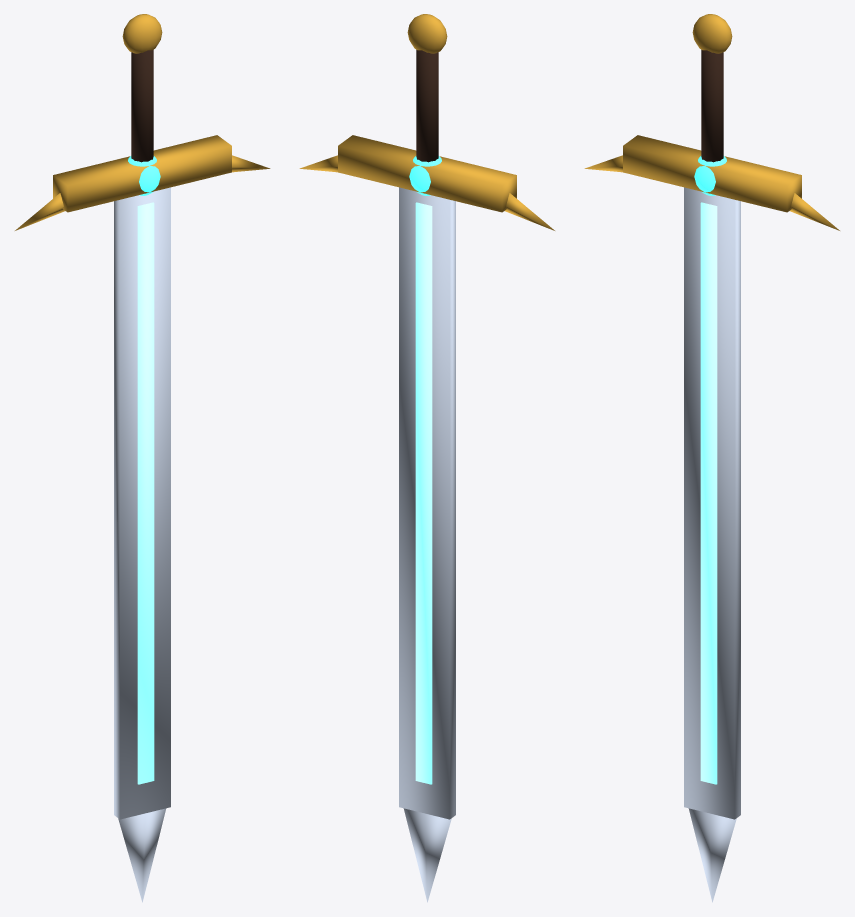
The model's file is weapon_guerreiro_ia.glb.
The picture shows the model from 3 angles, left to right: view 1: azimuth 30°, elevation 25°; view 2: azimuth 150°, elevation 25°; view 3: azimuth 330°, elevation 25°; orthographic projection.
Parts seen in each view (by area): view 1: Lamina, FioRunico, Guarda, Cabo, Ponta, Pomo, GemaGuarda, GuardaAsa; view 2: Lamina, FioRunico, Guarda, Cabo, Ponta, Pomo, GemaGuarda, GuardaAsa; view 3: Lamina, FioRunico, Guarda, Cabo, Ponta, Pomo, GemaGuarda, GuardaAsa.001.
Part boxes in pixels (bbox=[...]): Lamina: bbox=[114, 187, 170, 819]; FioRunico: bbox=[137, 202, 154, 784]; Guarda: bbox=[53, 135, 231, 212]; Cabo: bbox=[131, 50, 153, 162]; Ponta: bbox=[118, 808, 166, 902]; Pomo: bbox=[122, 14, 162, 53]; GemaGuarda: bbox=[128, 156, 160, 195]; GuardaAsa: bbox=[15, 193, 64, 230]; Lamina: bbox=[399, 187, 455, 819]; FioRunico: bbox=[415, 202, 432, 784]; Guarda: bbox=[338, 135, 516, 212]; Cabo: bbox=[416, 50, 438, 162]; Ponta: bbox=[403, 808, 451, 902]; Pomo: bbox=[407, 14, 447, 53]; GemaGuarda: bbox=[409, 156, 441, 195]; GuardaAsa: bbox=[505, 193, 554, 230]; Lamina: bbox=[684, 187, 740, 819]; FioRunico: bbox=[700, 202, 717, 784]; Guarda: bbox=[623, 135, 801, 212]; Cabo: bbox=[701, 50, 723, 162]; Ponta: bbox=[688, 808, 736, 902]; Pomo: bbox=[692, 14, 732, 53]; GemaGuarda: bbox=[694, 156, 726, 195]; GuardaAsa.001: bbox=[790, 193, 839, 230].
Size of the model in its own units: 0.9071 by 2.99 by 0.12.
